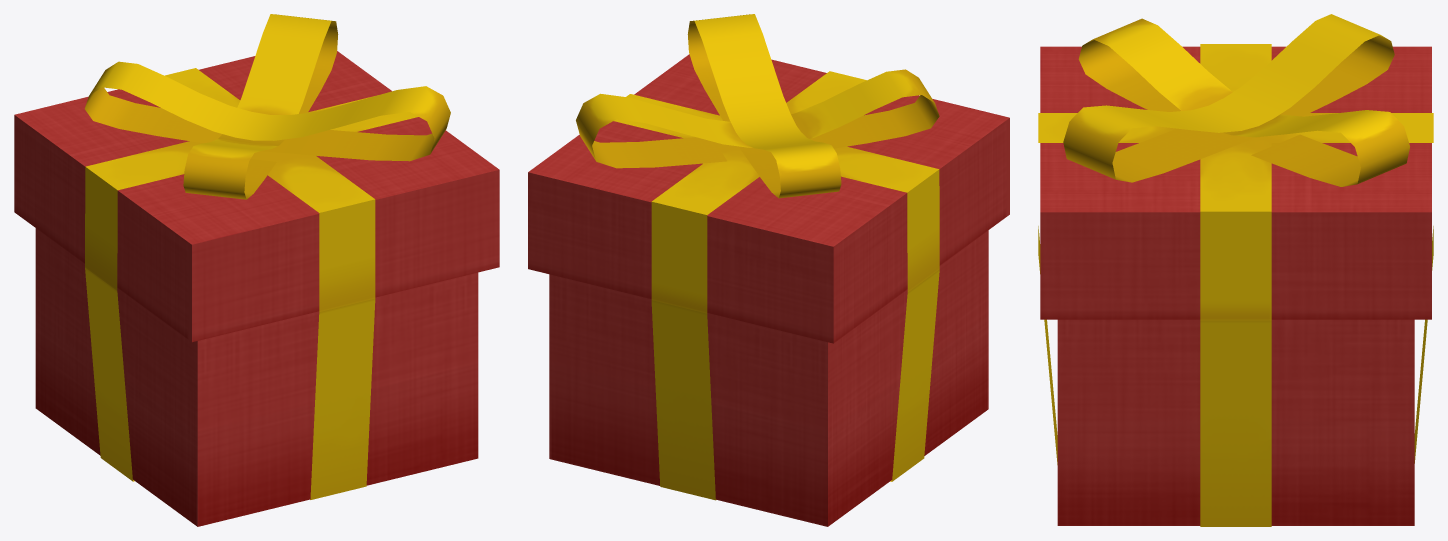
Rendered from Gift.fbx.
3 views of the same model, side by side, from view 1: azimuth 30°, elevation 25°; view 2: azimuth 150°, elevation 25°; view 3: azimuth 270°, elevation 25° (orthographic). The views are drawn at different scales.
Parts seen in each view (by area): view 1: Gift; view 2: Gift; view 3: Gift.
Boxes of the visible parts, x1=… form: Gift: x1=14, y1=14, x2=499, y2=526; Gift: x1=528, y1=14, x2=1009, y2=526; Gift: x1=1038, y1=14, x2=1433, y2=526.
Bounding box in the file's own units: 55.57 × 60.32 × 55.42.
